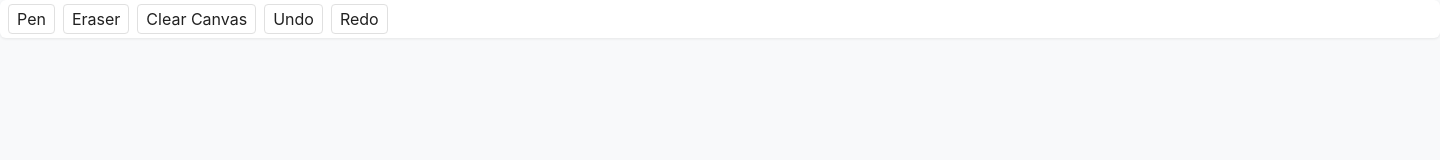
Test: Toolbar + ConfirmDialog (Clear Canvas) › clicking Clear Canvas renders inline ConfirmDialog
The width and height of the screenshot is (1440, 160).
Click the button "Clear Canvas": point(197, 19) [137, 4, 256, 34]
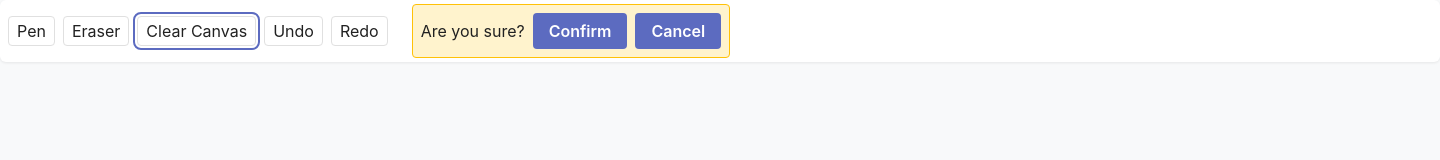
expect the text "Are you sure?" is shown: met, box [421, 19, 525, 43]
